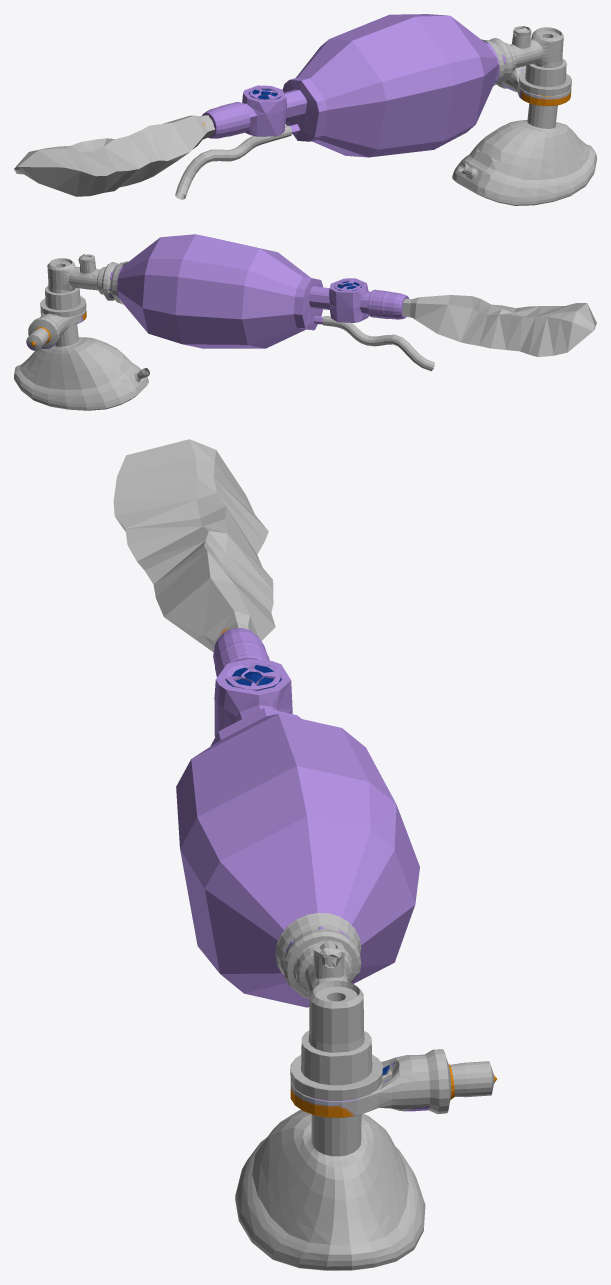
The model's file is BagMask.obj.
3 renders of one model, top to bottom at view 1: azimuth 30°, elevation 25°; view 2: azimuth 150°, elevation 25°; view 3: azimuth 270°, elevation 25°, orthographic. The views are drawn at different scales.
Visible parts, largest first — view 1: BagMask; view 2: BagMask; view 3: BagMask.
Boxes of the visible parts, bbox=[...] form: BagMask: bbox=[14, 14, 596, 205]; BagMask: bbox=[14, 234, 596, 410]; BagMask: bbox=[113, 439, 497, 1270].
Size of the model in its own units: 0.5239 by 0.1657 by 0.1612.
Materials: 1 (1 with a texture image).
